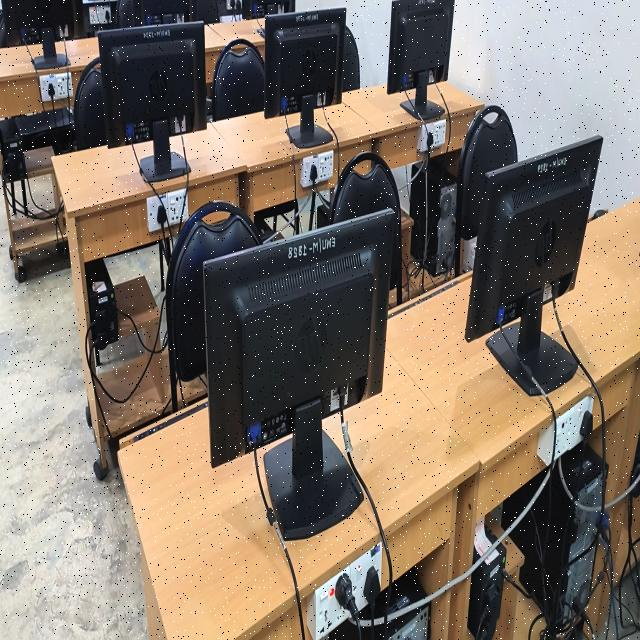Chair: (166, 201, 263, 412), (330, 152, 402, 289), (456, 106, 517, 239), (212, 39, 264, 120), (74, 57, 107, 149), (343, 26, 360, 91)
Cpu: (562, 477, 602, 617), (437, 184, 456, 273)
Monitor: (203, 209, 396, 543), (465, 135, 602, 395), (98, 22, 207, 181), (265, 8, 348, 148), (388, 0, 454, 123), (3, 0, 73, 68), (134, 0, 190, 26), (243, 0, 294, 18)
